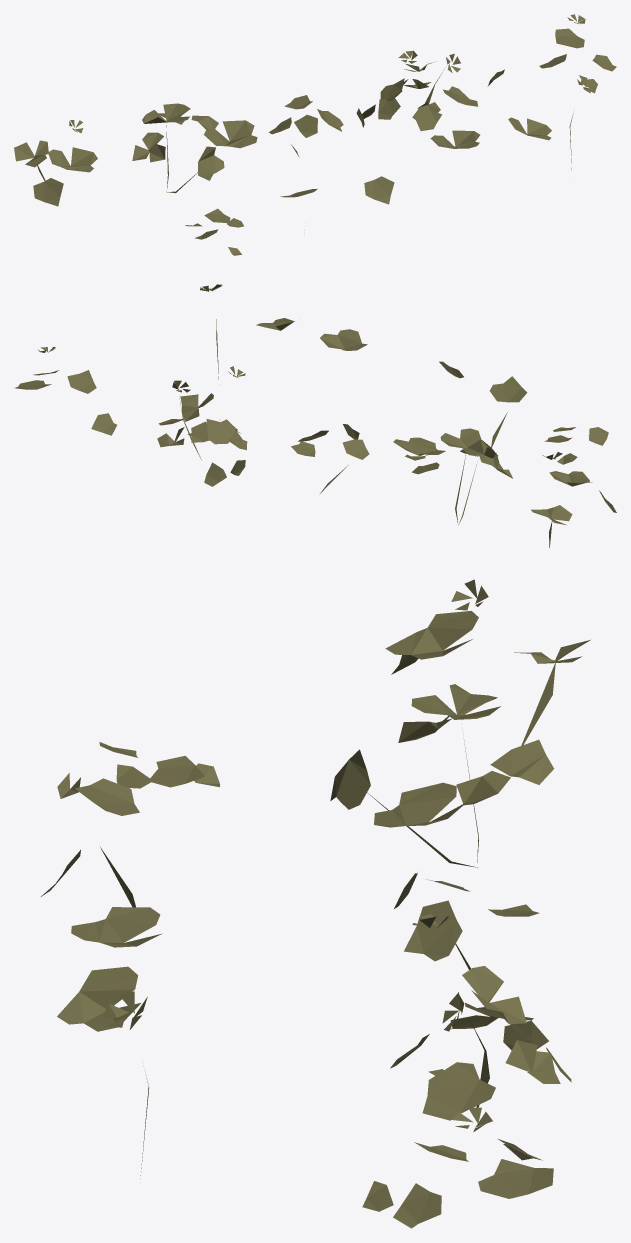
File: shrub_sorrel_01.glb
3 renders of one model, top to bottom at view 1: azimuth 30°, elevation 25°; view 2: azimuth 150°, elevation 25°; view 3: azimuth 270°, elevation 25°, orthographic. The views are drawn at different scales.
Parts seen in each view (by area): view 1: shrub_sorrel_01_k; view 2: shrub_sorrel_01_k; view 3: shrub_sorrel_01_k.
Part boxes in pixels (<box>): shrub_sorrel_01_k: <box>14,14,616,255</box>; shrub_sorrel_01_k: <box>14,284,616,547</box>; shrub_sorrel_01_k: <box>41,579,590,1228</box>.
Bounding box in the file's own units: 0.3518 × 0.058 × 0.1455.
